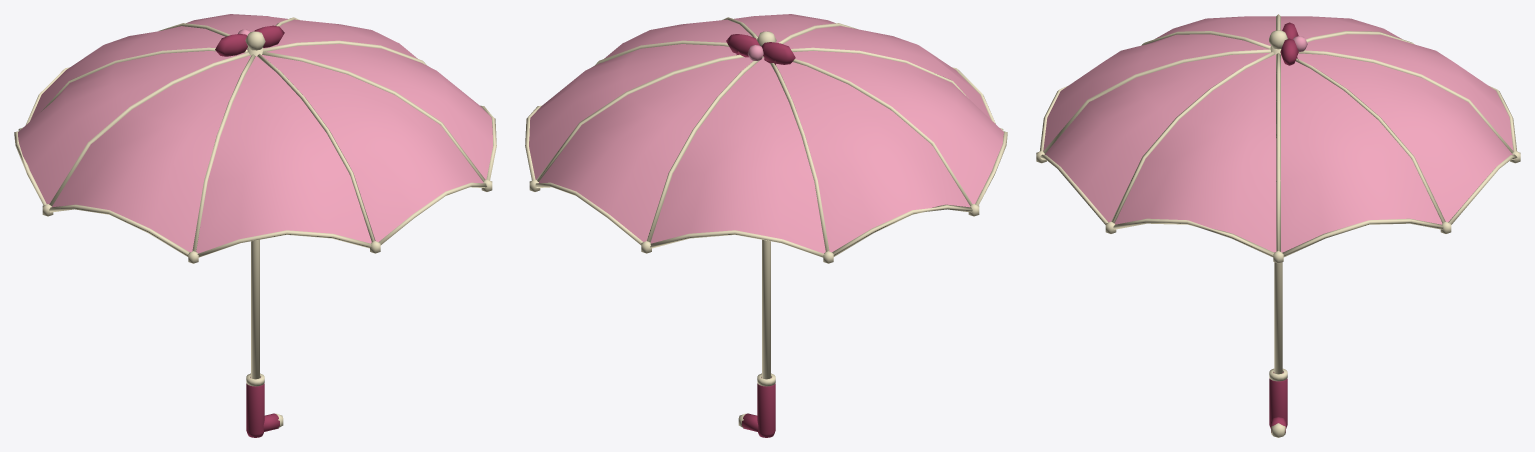
Rendered from umbrella-boudoir.glb.
3 renders of one model, left to right at view 1: azimuth 30°, elevation 25°; view 2: azimuth 150°, elevation 25°; view 3: azimuth 270°, elevation 25°, orthographic.
Visible parts, largest first — view 1: spin, umbrella_root; view 2: spin, umbrella_root; view 3: spin, umbrella_root.
Part boxes in pixels (x1=…): spin: x1=14, y1=14, x2=496, y2=263; umbrella_root: x1=246, y1=240, x2=283, y2=437; spin: x1=525, y1=14, x2=1007, y2=263; umbrella_root: x1=738, y1=240, x2=775, y2=437; spin: x1=1036, y1=14, x2=1520, y2=263; umbrella_root: x1=1269, y1=262, x2=1287, y2=437.
Size of the model in its own units: 1.54 by 1.39 by 1.53.
